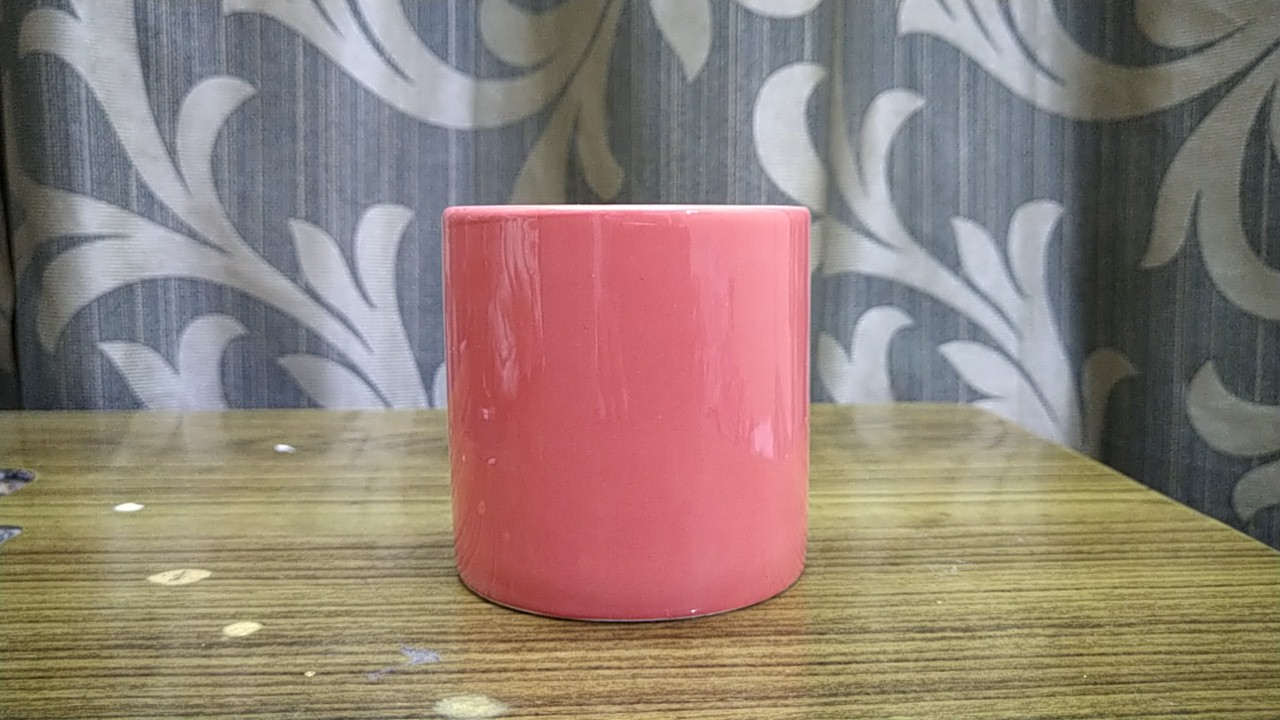cup: (438, 200, 821, 624)
